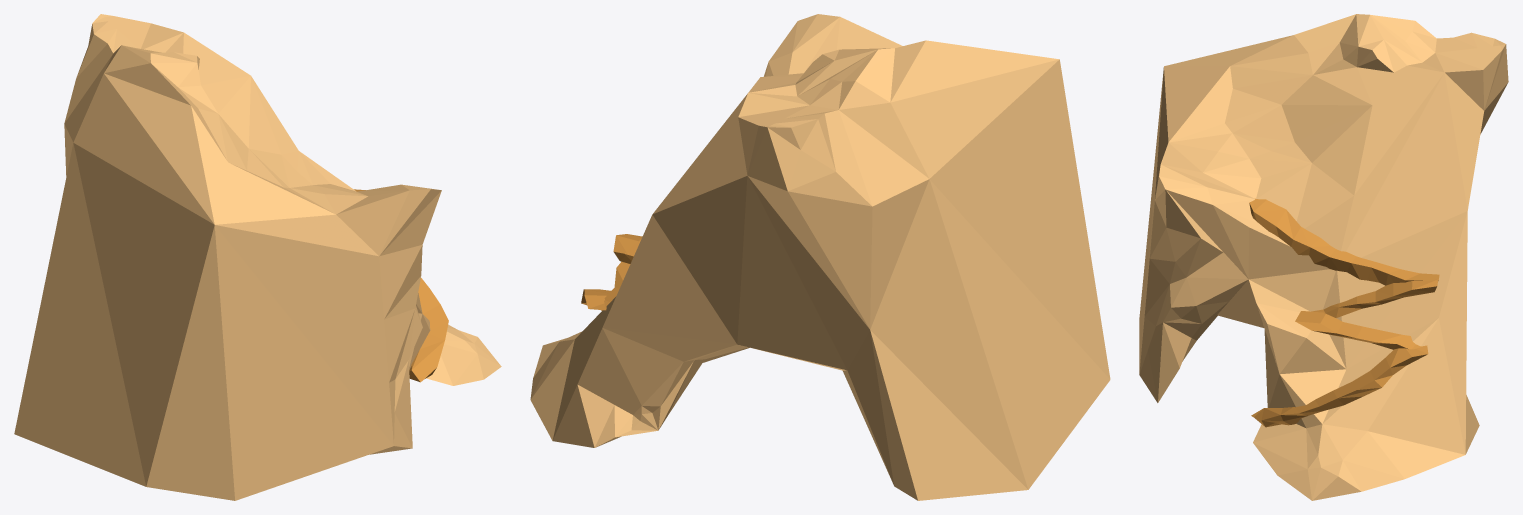
The picture shows the model from 3 angles, left to right: view 1: azimuth 30°, elevation 25°; view 2: azimuth 150°, elevation 25°; view 3: azimuth 270°, elevation 25°; orthographic projection. The views are drawn at different scales.
Visible parts, largest first — view 1: group_343169424, group_1106719088; view 2: group_343169424; view 3: group_343169424, group_1533220994, group_1106719088, group_1030139279, group_1816422561.
Boxes of the visible parts, x1,y1,x2,y2 form: group_343169424: (14, 14, 501, 500); group_1106719088: (409, 278, 448, 382); group_343169424: (530, 14, 1110, 500); group_343169424: (1139, 14, 1508, 500); group_1533220994: (1249, 198, 1439, 285); group_1106719088: (1251, 345, 1428, 427); group_1030139279: (1295, 311, 1425, 349); group_1816422561: (1311, 279, 1437, 317).
Bounding box in the file's own units: 197 × 153 × 150.
